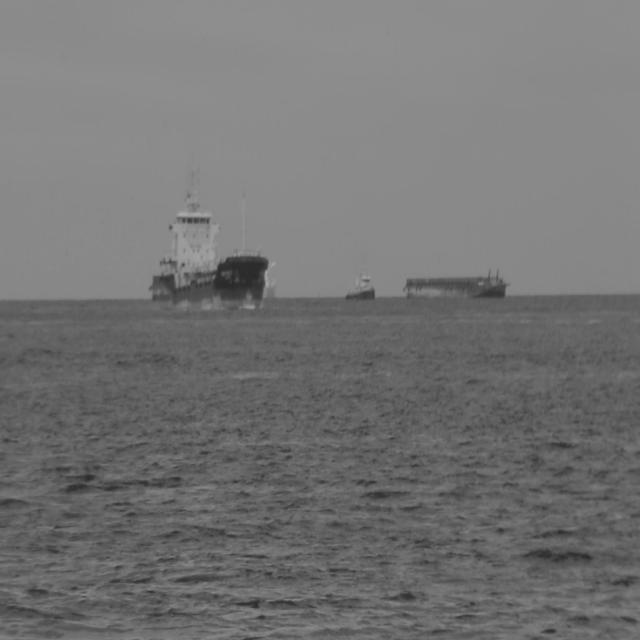ship: (146, 168, 266, 308), (400, 270, 507, 300), (262, 255, 276, 304)
